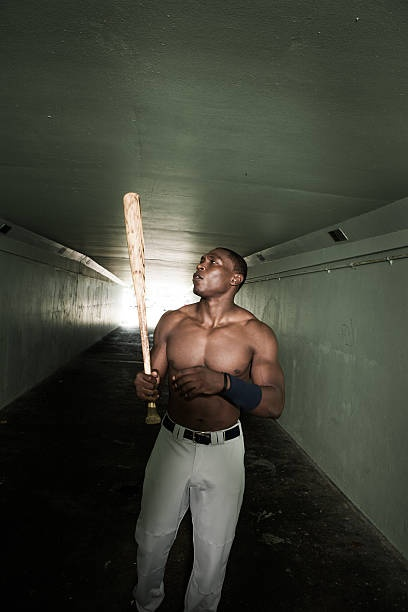bita: (116, 191, 161, 419)
